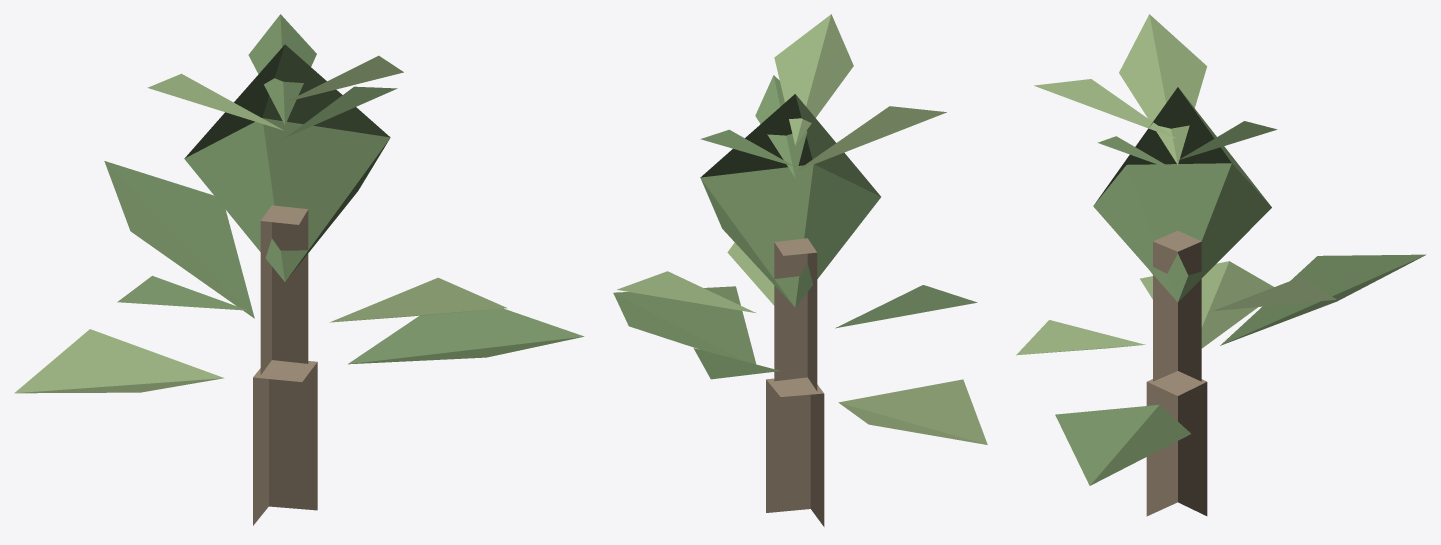
Rendered from shu.mangguo@seedling__summer.glb.
3 views of the same model, side by side, from view 1: azimuth 30°, elevation 25°; view 2: azimuth 150°, elevation 25°; view 3: azimuth 270°, elevation 25° (orthographic). The views are drawn at different scales.
Parts seen in each view (by area): view 1: shu.mangguo@seedling__summer; view 2: shu.mangguo@seedling__summer; view 3: shu.mangguo@seedling__summer.
Part boxes in pixels (left/top/right/bottom): shu.mangguo@seedling__summer: left=14, top=14, right=584, bottom=525; shu.mangguo@seedling__summer: left=613, top=14, right=987, bottom=526; shu.mangguo@seedling__summer: left=1016, top=14, right=1426, bottom=516.
Size of the model in its own units: 1.3 by 1.25 by 1.04.
